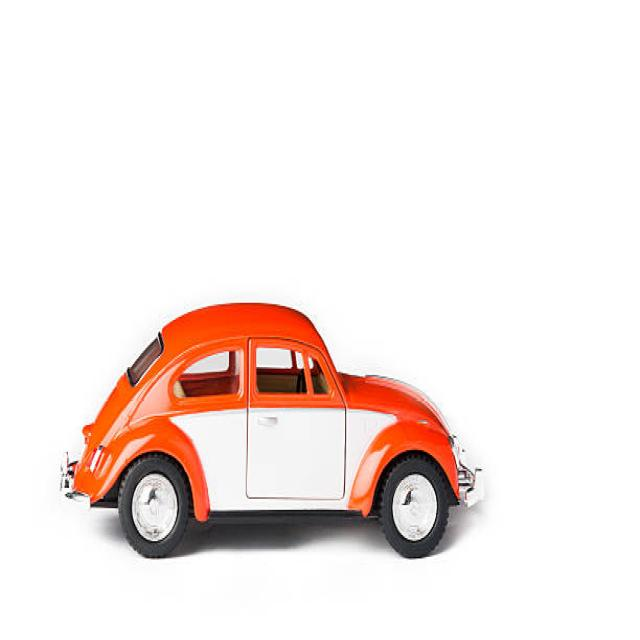Car: (60, 300, 484, 560)
